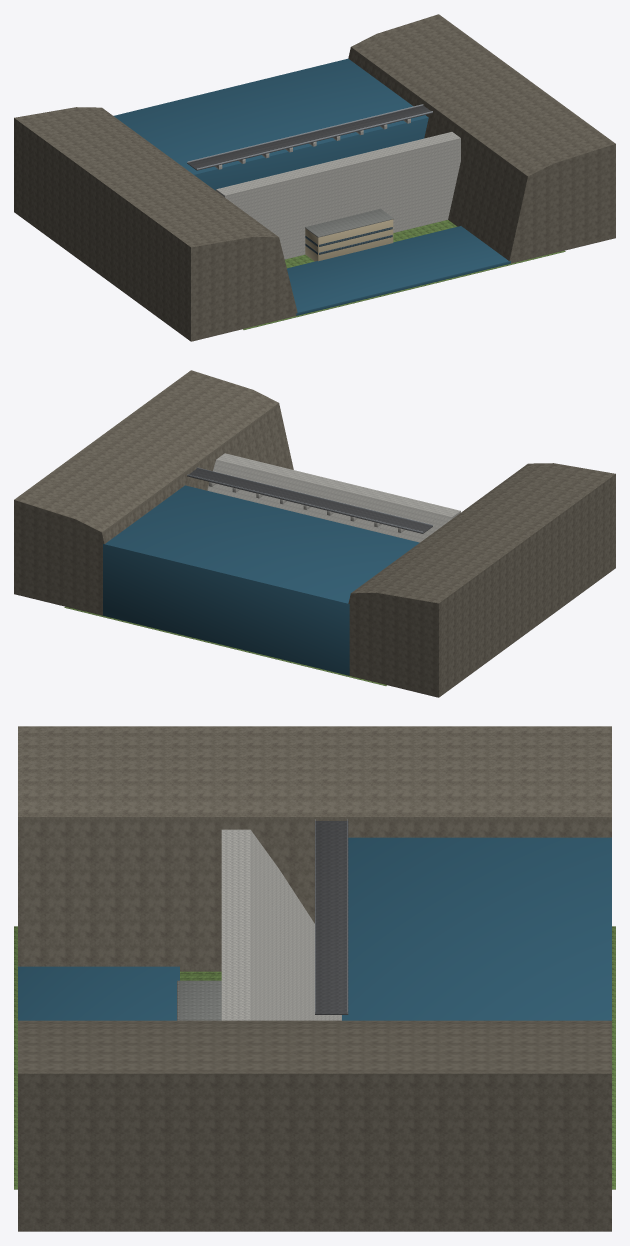
Rendered from hydroelectric-dam.glb.
3 renders of one model, top to bottom at view 1: azimuth 30°, elevation 25°; view 2: azimuth 150°, elevation 25°; view 3: azimuth 270°, elevation 25°, orthographic. The views are drawn at different scales.
Visible parts, largest first — view 1: Hydroelectric_Dam; view 2: Hydroelectric_Dam; view 3: Hydroelectric_Dam.
Part boxes in pixels (<box>): Hydroelectric_Dam: <box>14,14,615,341</box>; Hydroelectric_Dam: <box>14,370,615,697</box>; Hydroelectric_Dam: <box>14,726,615,1231</box>.
Size of the model in its own units: 396 by 84.1 by 290.
10 materials, 7 textured.
